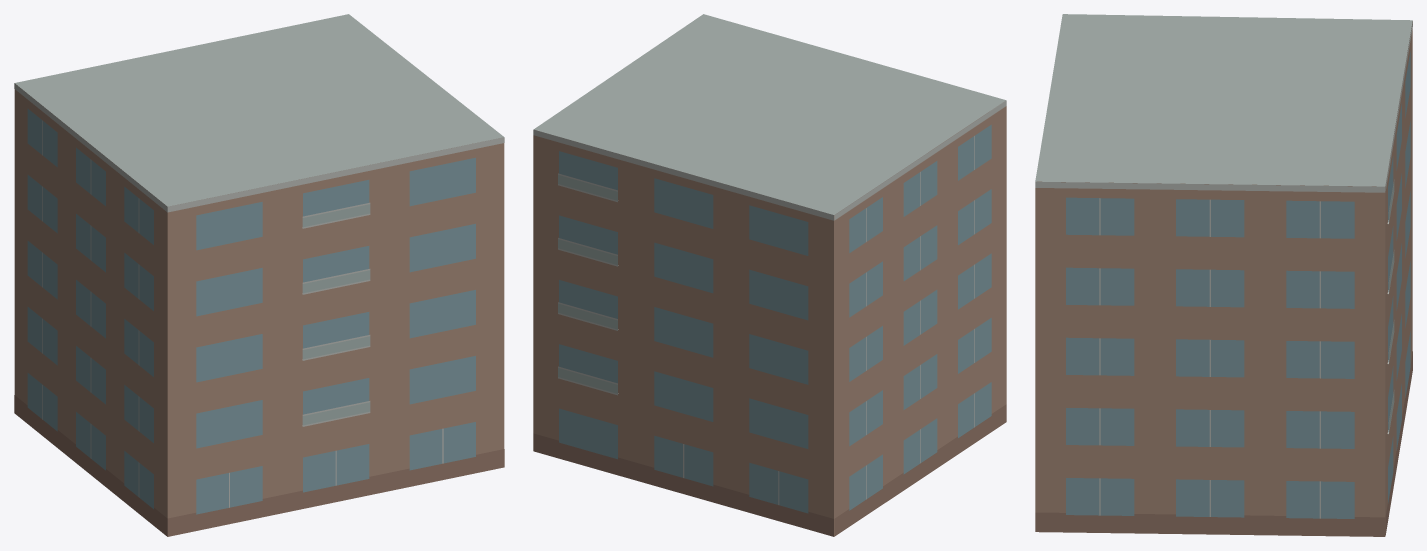
File: survey-upis-32765331.glb
3 views of the same model, side by side, from view 1: azimuth 30°, elevation 25°; view 2: azimuth 150°, elevation 25°; view 3: azimuth 270°, elevation 25° (orthographic). The views are drawn at different scales.
Parts seen in each view (by area): view 1: survey-upis-32765331.tmp; view 2: survey-upis-32765331.tmp; view 3: survey-upis-32765331.tmp.
Part boxes in pixels (box(x1,y1,x2,y2)): survey-upis-32765331.tmp: box(14, 14, 504, 536); survey-upis-32765331.tmp: box(533, 14, 1006, 536); survey-upis-32765331.tmp: box(1035, 14, 1412, 536).
Size of the model in its own units: 14.59 by 13.8 by 13.49.
